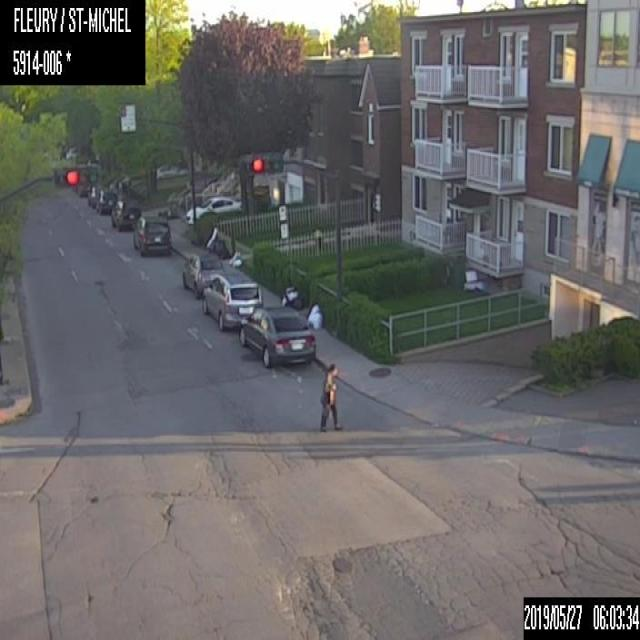pedestrian: (318, 359, 338, 433)
vehicle: (237, 303, 316, 369), (201, 270, 262, 330), (132, 212, 174, 259), (181, 251, 221, 298), (185, 194, 240, 224), (110, 197, 139, 232), (95, 190, 117, 215), (88, 184, 102, 208)
